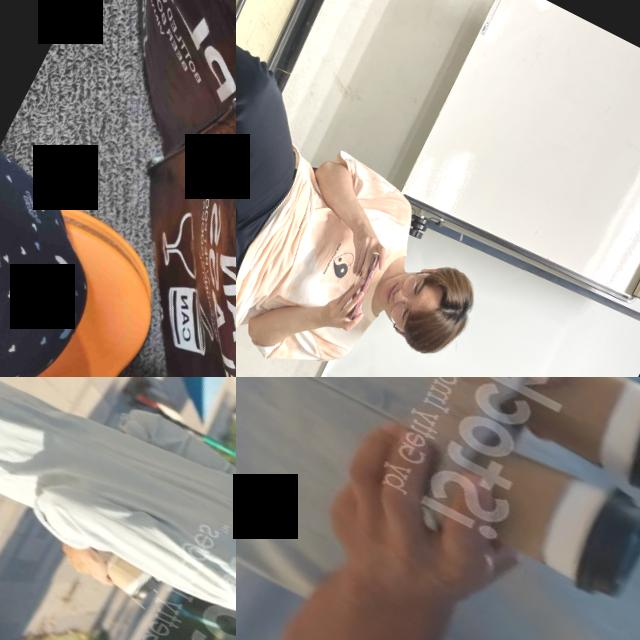cup: (422, 409, 640, 608), (513, 377, 640, 504), (88, 545, 164, 606)
